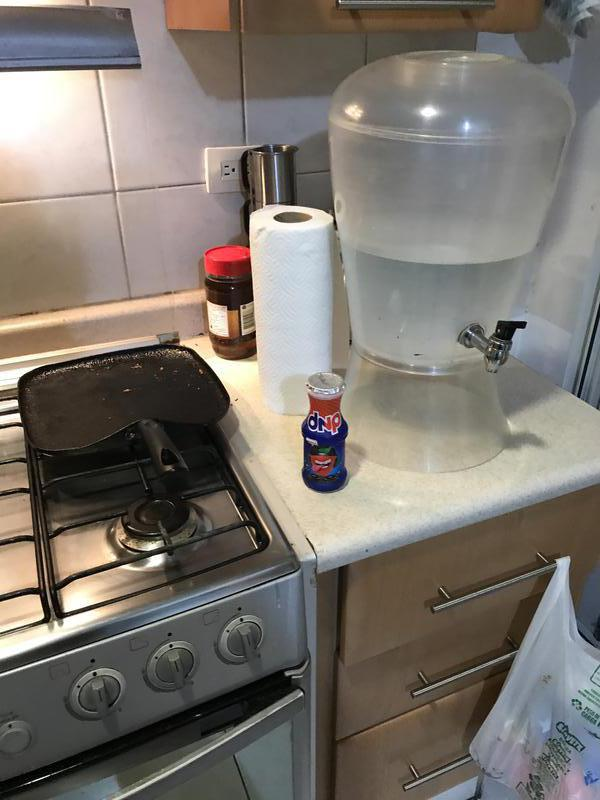danup: (299, 372, 349, 494)
